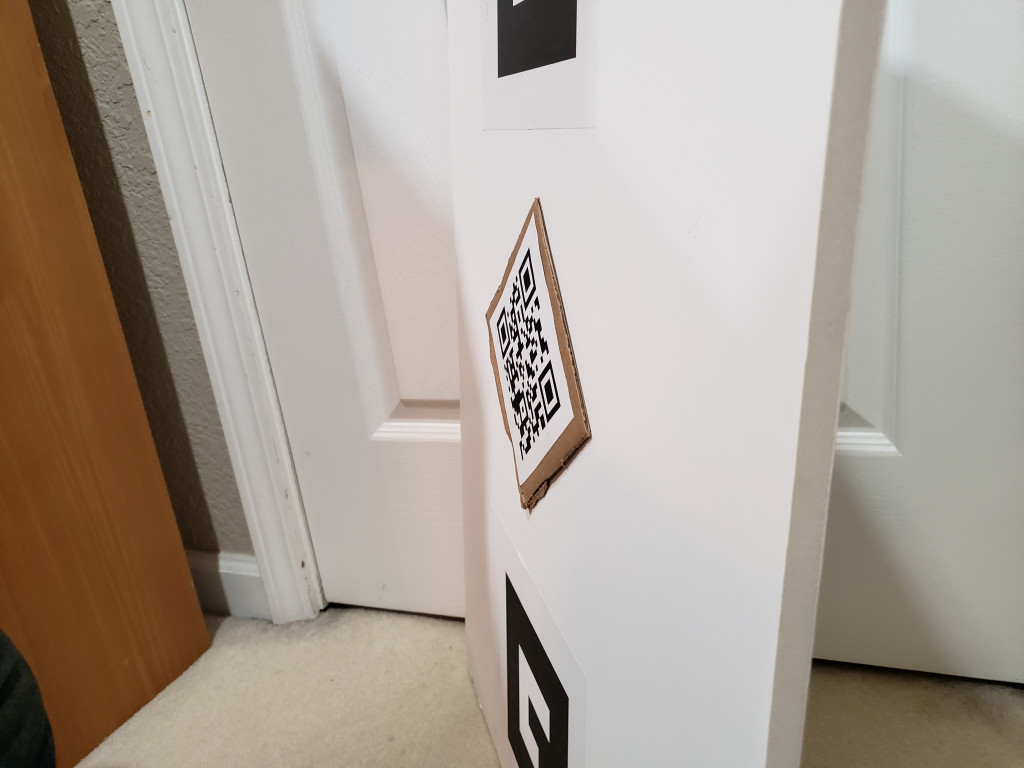QR_CODE: (467, 233, 573, 472)
